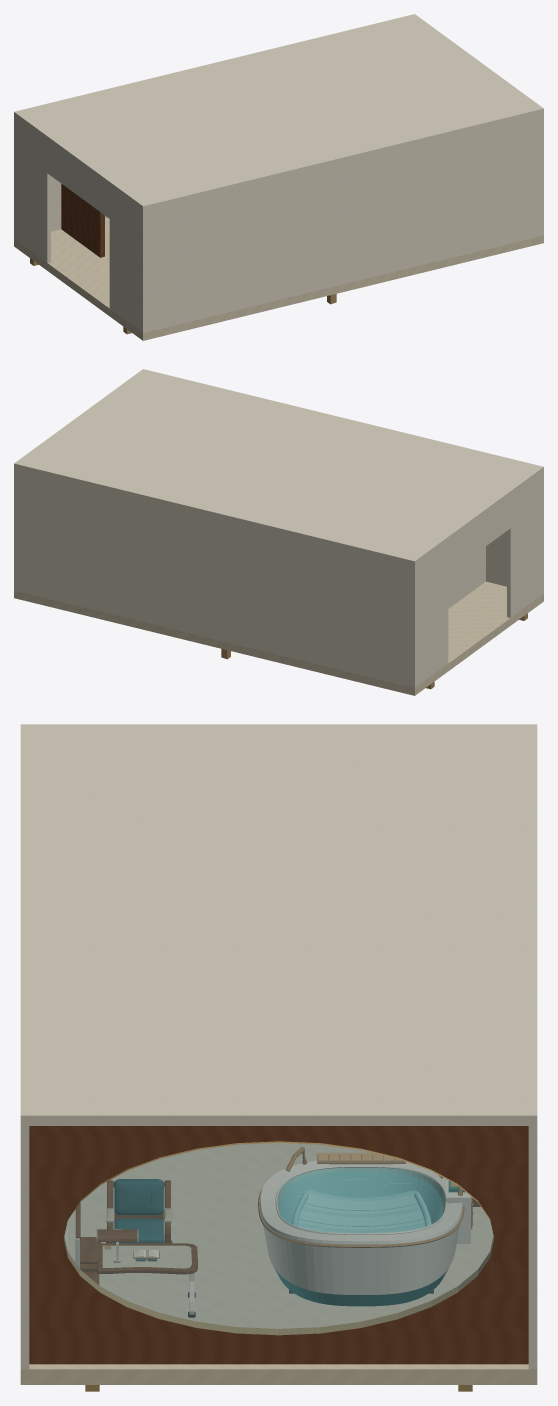
File: StarAtlasSpecialty_461_Production.glb
3 renders of one model, top to bottom at view 1: azimuth 30°, elevation 25°; view 2: azimuth 150°, elevation 25°; view 3: azimuth 270°, elevation 25°, orthographic. The views are drawn at different scales.
Parts seen in each view (by area): view 1: SA461_Ceiling, SA461_SouthSide, SA461_RoomFloor, SA461_EntryShoulderNorth, SA461_EntryShoulderSouth, SA461_EntryHeader, SA461_EntryPrivacyDogleg, SA461_NorthSide; view 2: SA461_Ceiling, SA461_NorthSide, SA461_RoomFloor, SA461_EntryShoulderSouth, SA461_EntryShoulderNorth, SA461_EntryHeader, SA461_WashEntrySide, SA461_SouthSide; view 3: SA461_Ceiling, SA461_OvalAtriumGlass, SA461_OvalWindowReveal, SA461_RoomFloor, SA461_ReservedRestSupport__Hollow continuous basin shell wit, SA461_ReservedRestSupport__WaterSurface_VisualOnly, SA461_ReservedRestSupport__Contoured broad immersed rest sup, SA461_OvalDepthReturn, SA461_NorthSide, SA461_SouthSide, SA461_DayReadingChair__DAY_CHAIR_single_reclined_back_cushio, SA461_LibraryStudyEdge__SINGLE_inset_stone_writing_surface (+4 smaller).
Boxes of the visible parts, left/top/right/bottom form: SA461_Ceiling: left=14, top=14, right=543, bottom=211; SA461_SouthSide: left=141, top=114, right=543, bottom=332; SA461_RoomFloor: left=14, top=218, right=543, bottom=340; SA461_EntryShoulderNorth: left=16, top=119, right=50, bottom=262; SA461_EntryShoulderSouth: left=109, top=187, right=140, bottom=331; SA461_EntryHeader: left=47, top=141, right=110, bottom=218; SA461_EntryPrivacyDogleg: left=61, top=184, right=104, bottom=257; SA461_NorthSide: left=14, top=117, right=107, bottom=239; SA461_Ceiling: left=14, top=369, right=543, bottom=566; SA461_NorthSide: left=14, top=469, right=416, bottom=687; SA461_RoomFloor: left=14, top=581, right=543, bottom=695; SA461_EntryShoulderSouth: left=507, top=474, right=541, bottom=617; SA461_EntryShoulderNorth: left=417, top=543, right=448, bottom=686; SA461_EntryHeader: left=447, top=496, right=511, bottom=574; SA461_WashEntrySide: left=448, top=546, right=485, bottom=608; SA461_SouthSide: left=486, top=472, right=543, bottom=594; SA461_Ceiling: left=20, top=724, right=537, bottom=1125; SA461_OvalAtriumGlass: left=64, top=1143, right=493, bottom=1334; SA461_OvalWindowReveal: left=29, top=1126, right=528, bottom=1364; SA461_RoomFloor: left=20, top=1143, right=537, bottom=1384; SA461_ReservedRestSupport__Hollow continuous basin shell wit: left=260, top=1161, right=462, bottom=1306; SA461_ReservedRestSupport__WaterSurface_VisualOnly: left=280, top=1171, right=442, bottom=1232; SA461_ReservedRestSupport__Contoured broad immersed rest sup: left=298, top=1191, right=424, bottom=1232; SA461_OvalDepthReturn: left=63, top=1141, right=494, bottom=1335; SA461_NorthSide: left=528, top=1126, right=537, bottom=1369; SA461_SouthSide: left=20, top=1126, right=29, bottom=1369; SA461_DayReadingChair__DAY_CHAIR_single_reclined_back_cushio: left=113, top=1179, right=164, bottom=1214; SA461_LibraryStudyEdge__SINGLE_inset_stone_writing_surface: left=102, top=1245, right=191, bottom=1268.
Size of the model in its own units: 12.9 by 4.91 by 7.2.
Materials: 61 (43 with a texture image).
